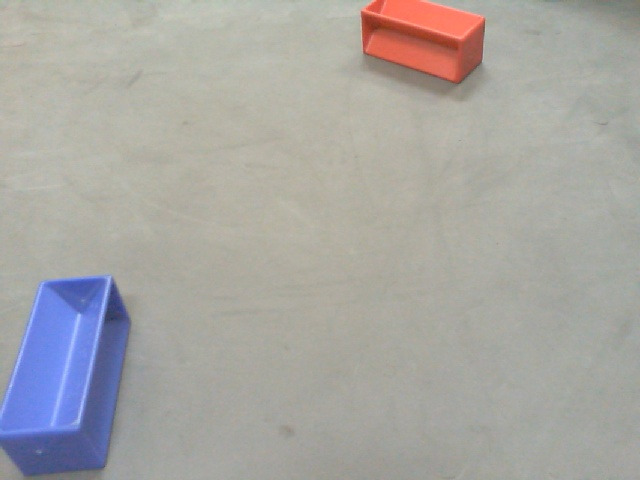BlueSample: (1, 272, 129, 480)
RedSample: (359, 1, 491, 87)
